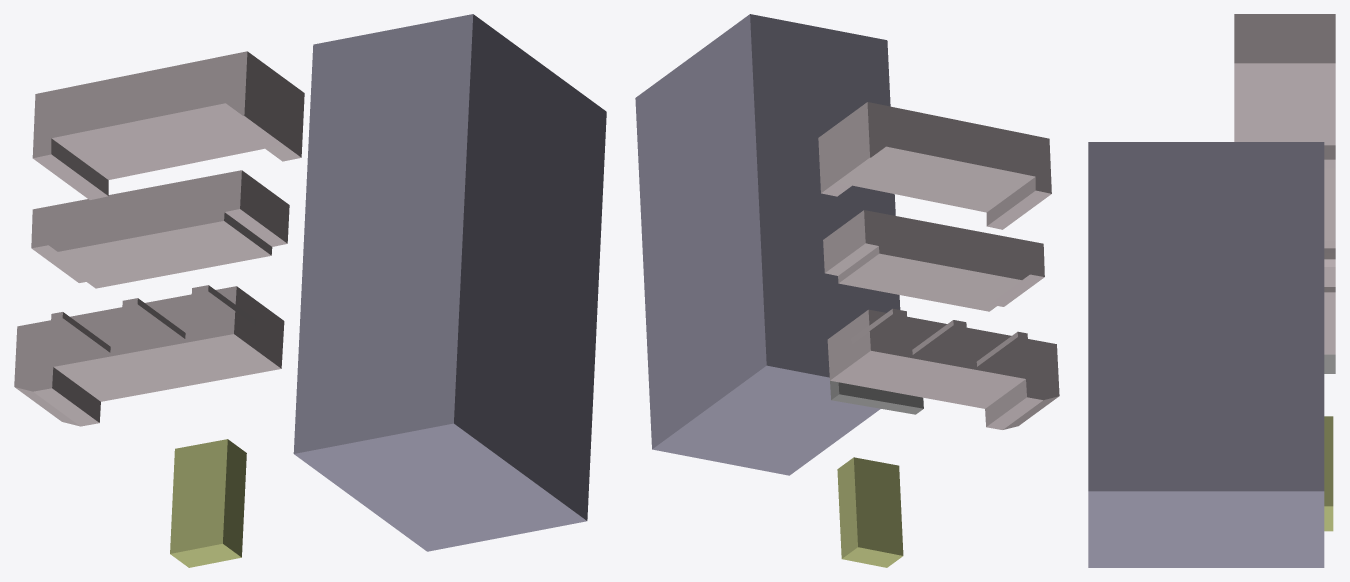
The picture shows the model from 3 angles, left to right: view 1: azimuth 30°, elevation 25°; view 2: azimuth 150°, elevation 25°; view 3: azimuth 270°, elevation 25°; orthographic projection. The views are drawn at different scales.
Visible parts, largest first — view 1: 0_0_3_1_2_0_1_3; view 2: 0_0_3_1_2_0_1_3; view 3: 0_0_3_1_2_0_1_3.
Boxes of the visible parts, box(x1,y1,x2,y2) form: 0_0_3_1_2_0_1_3: box(14, 14, 606, 567); 0_0_3_1_2_0_1_3: box(635, 14, 1059, 567); 0_0_3_1_2_0_1_3: box(1088, 14, 1335, 567).
Bounding box in the file's own units: 82.21 × 85.75 × 44.
